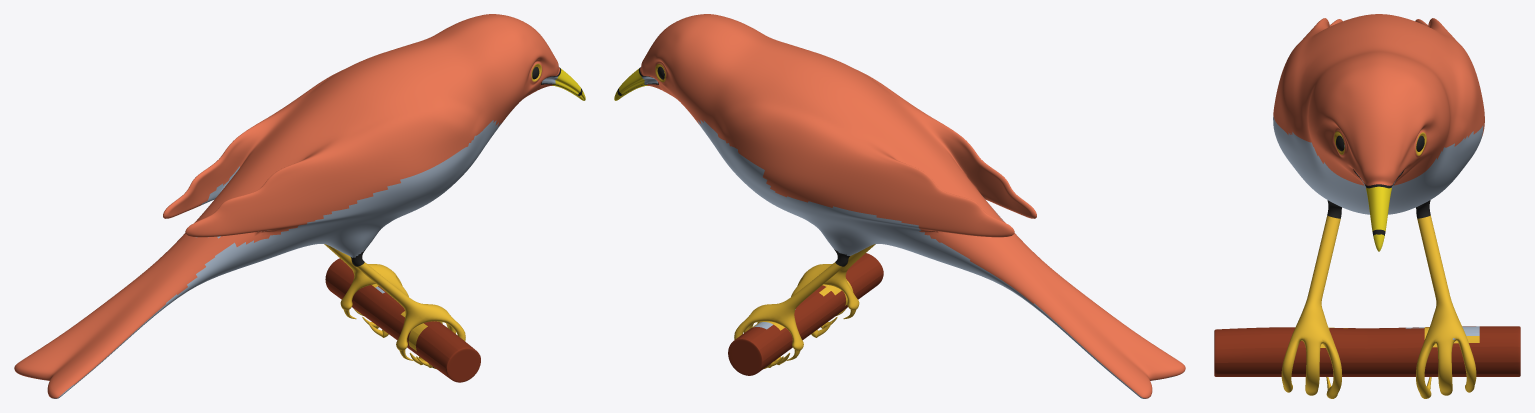
Rendered from cuckoo.gltf.
The picture shows the model from 3 angles, left to right: view 1: azimuth 30°, elevation 25°; view 2: azimuth 150°, elevation 25°; view 3: azimuth 270°, elevation 25°; orthographic projection. The views are drawn at different scales.
Visible parts, largest first — view 1: 12235_Bird_v1_l3; view 2: 12235_Bird_v1_l3; view 3: 12235_Bird_v1_l3.
Part boxes in pixels (<box>): 12235_Bird_v1_l3: <box>14,14,585,398</box>; 12235_Bird_v1_l3: <box>614,14,1185,398</box>; 12235_Bird_v1_l3: <box>1214,14,1520,398</box>.
Size of the model in its own units: 3.3 by 1.77 by 1.26.
